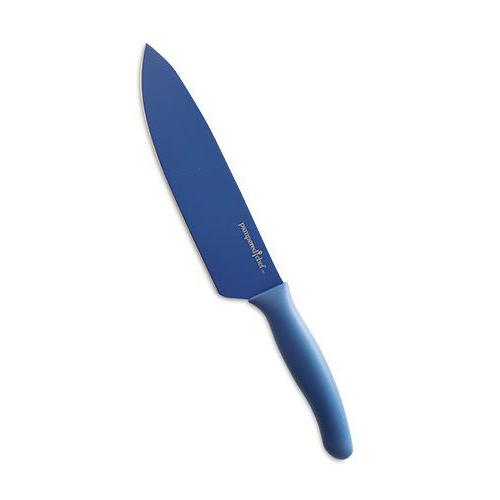knife: (142, 41, 353, 460)
